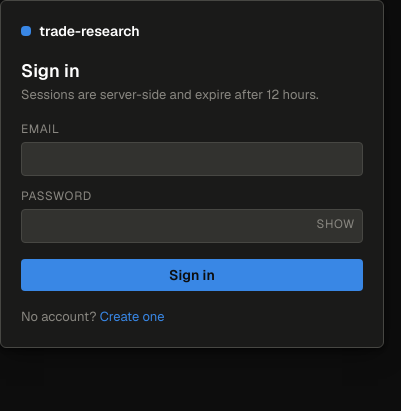
Scenario: AuthForm › shows the API's error and does not navigate
Type "a@tr-platform.io" into the field named "email".
click(192, 159); type("a@tr-platform.io")  # box [21,142,363,176]
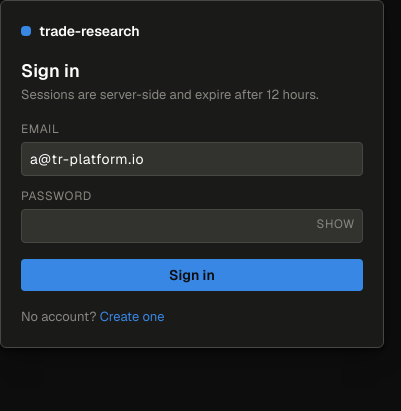
Type "wrong wrong wrong" into the password field named "password".
click(192, 226); type("wrong wrong wrong")  # box [21,209,363,243]
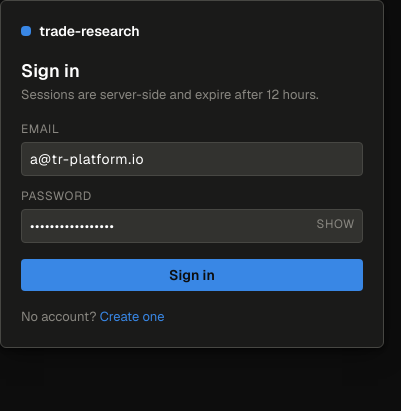
Submit the form "Sign in"
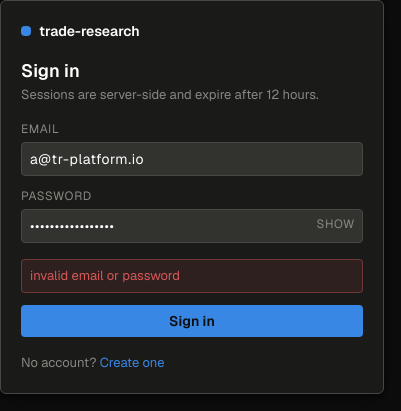
Result: the message reads "invalid email or password" at [30,267,180,284]
